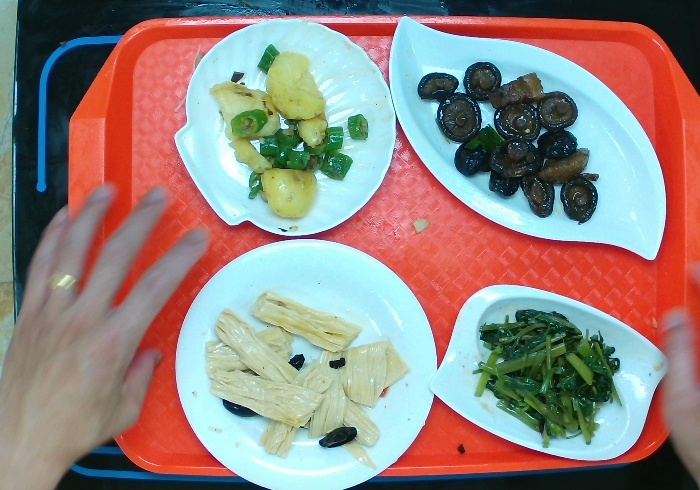RJxy-Bei_Ke_Wan: (170, 16, 401, 241)
RJxy-Jian_Jiao_Fang_Die: (426, 281, 673, 464)
RJxy-Jian_Jiao_Pan: (385, 12, 670, 266)
RJxy-Yuan_Pan: (170, 234, 442, 490)
